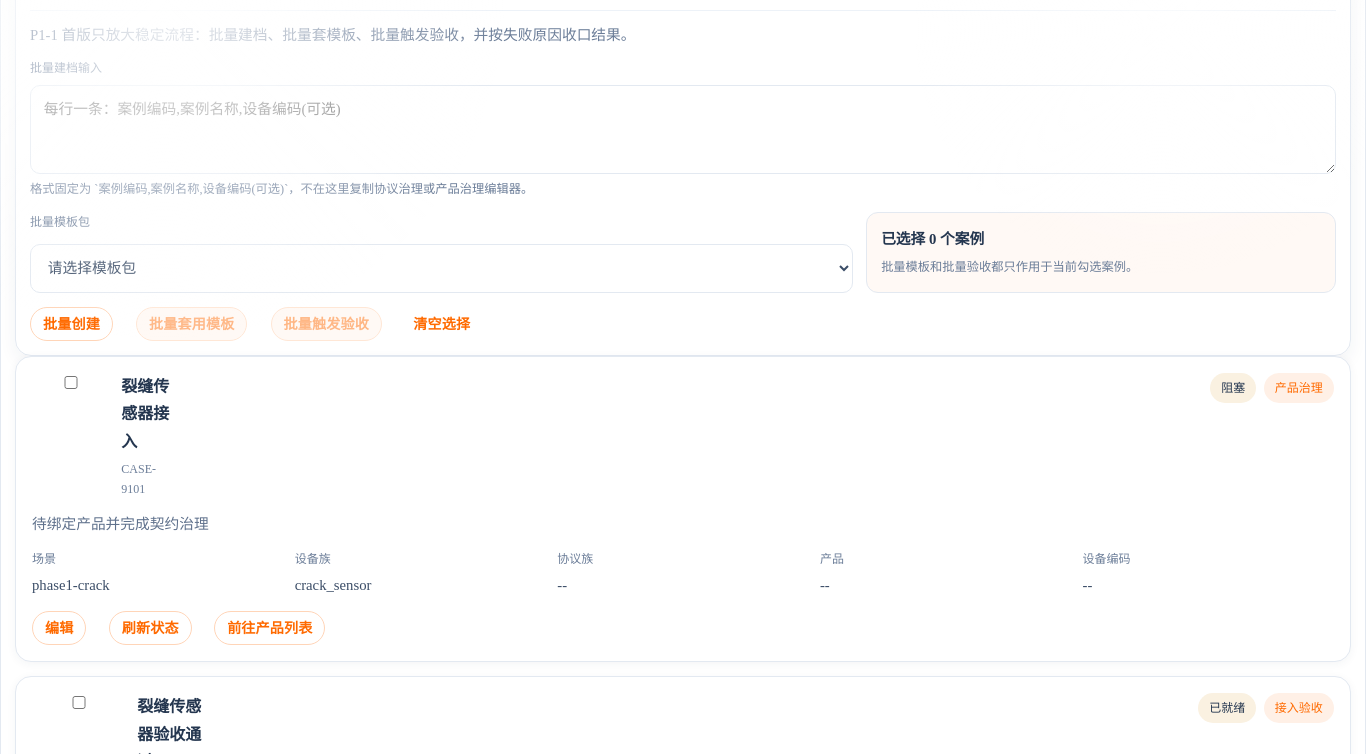
Test: DeviceOnboardingWorkbenchView › starts acceptance in batch and renders grouped failure summary
(page scrolled)
Click the checkbox with test id "onboarding-select-9101". click: (71,383)
box: [36,376,106,389]
(page scrolled)
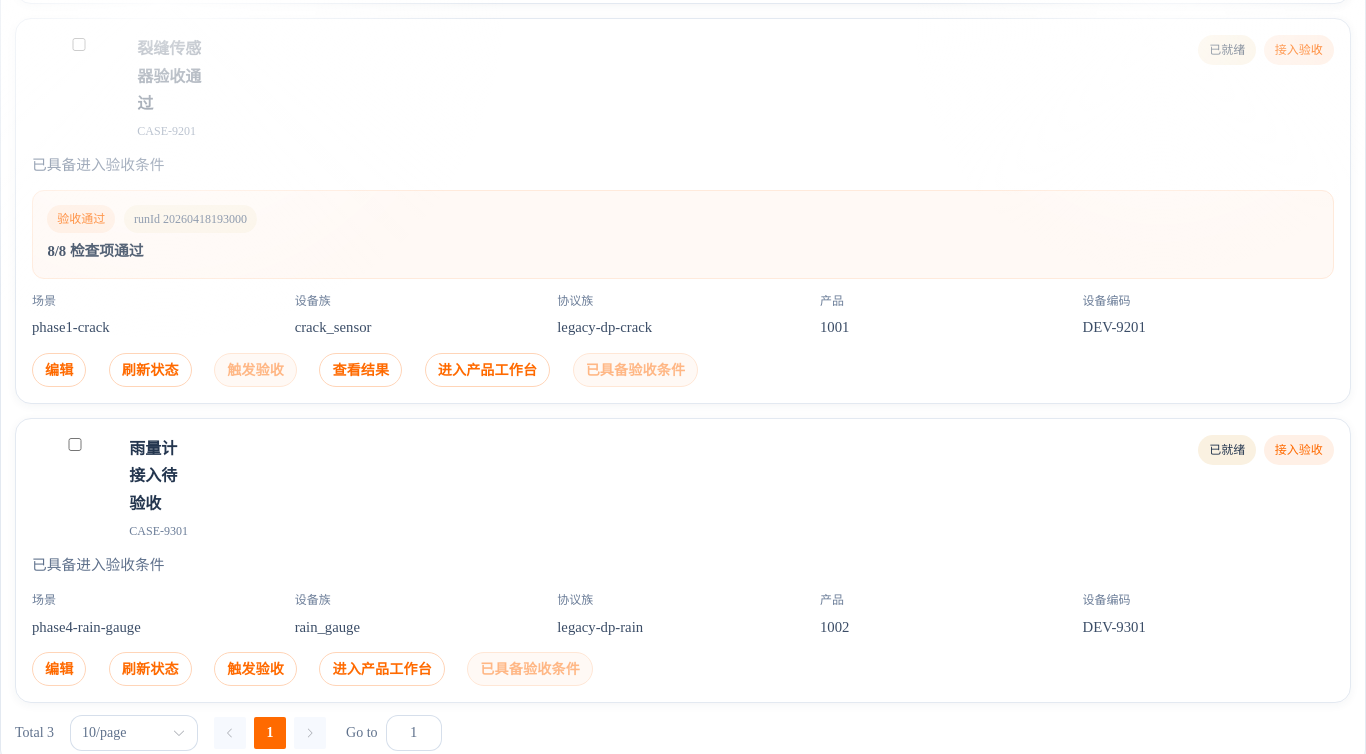
Click the checkbox with test id "onboarding-select-9301". click: (75,445)
box: [36,438,114,451]
(page scrolled)
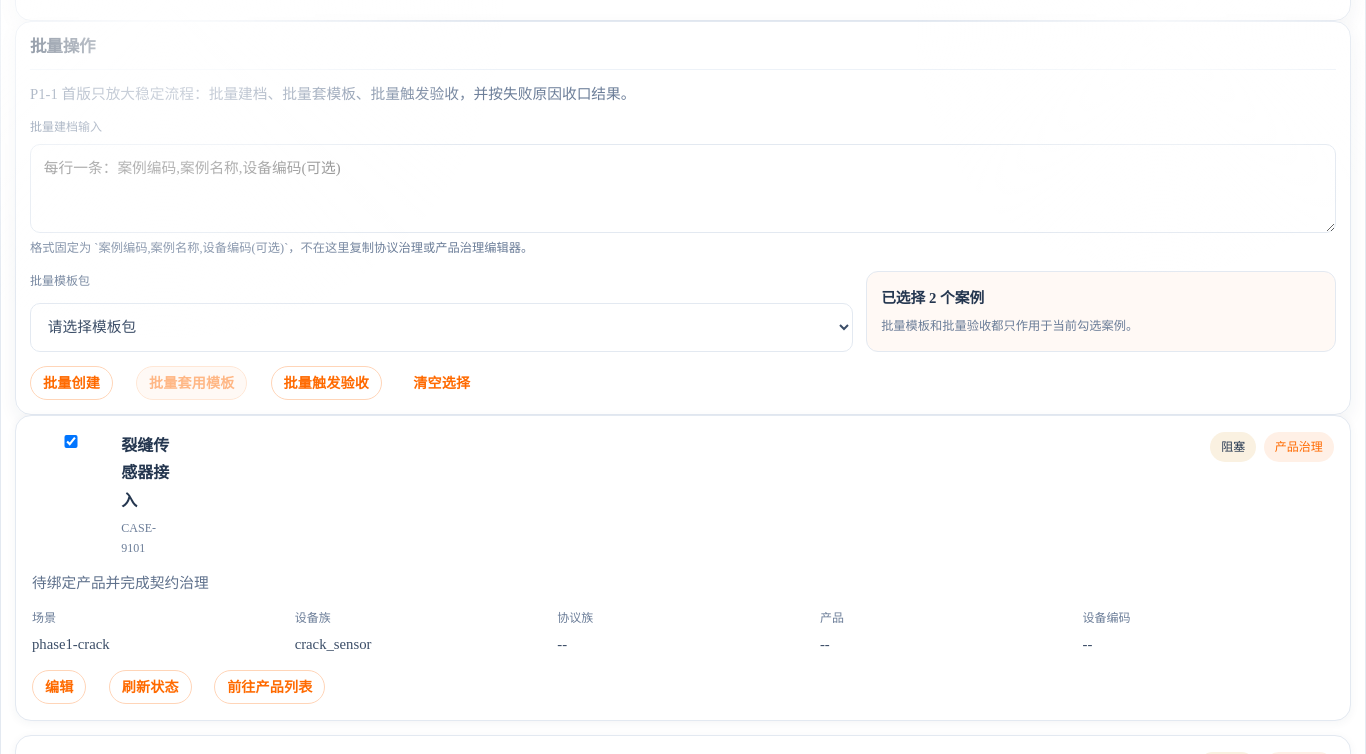
Click the button with test id "onboarding-batch-start-acceptance". click: (326,383)
box: [271,366,382,400]
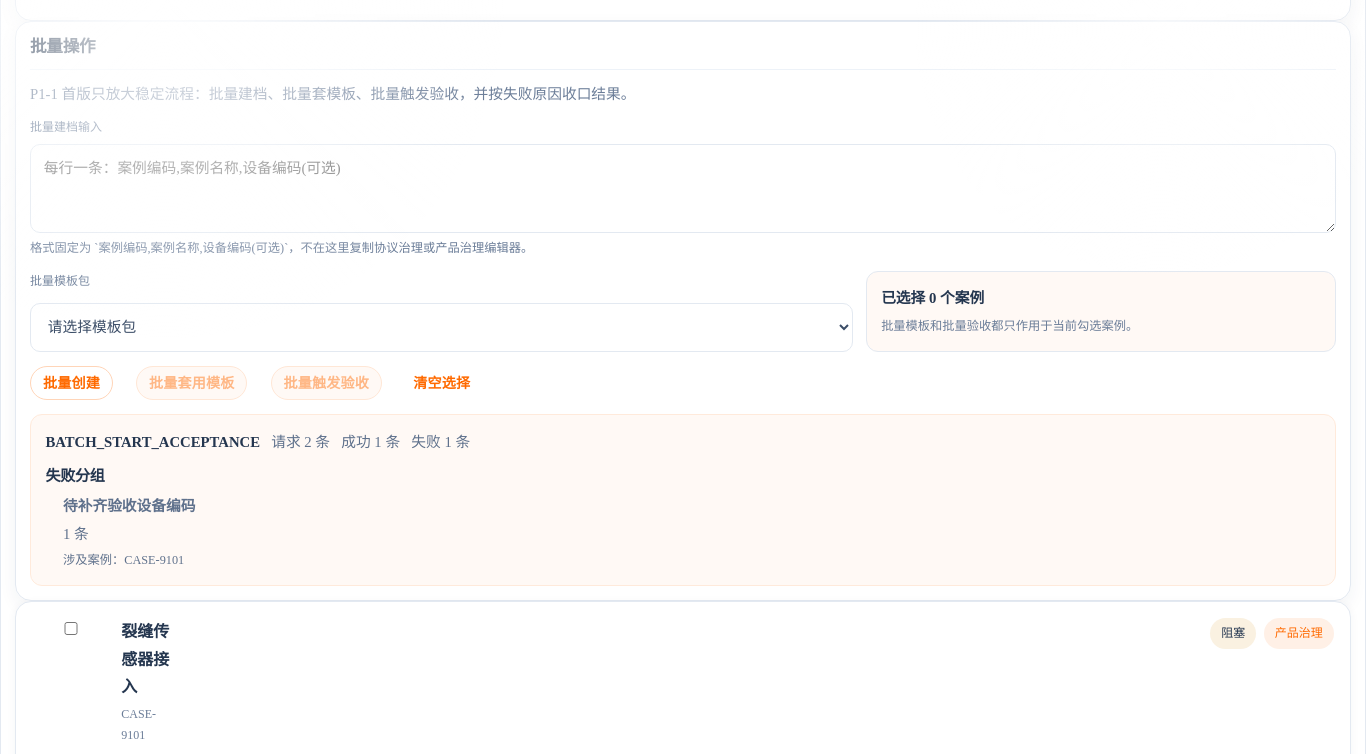
Expected: the text "CASE-9101" is shown, [63,553,184,567]
Expected: the text "失败分组" is shown, [45,468,105,484]
Expected: the text "待补齐验收设备编码" is shown, [63,498,196,514]
